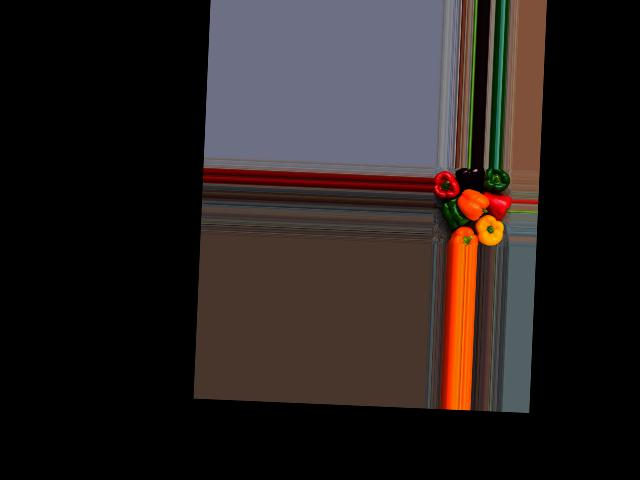bell_pepper: (440, 218, 478, 245)
